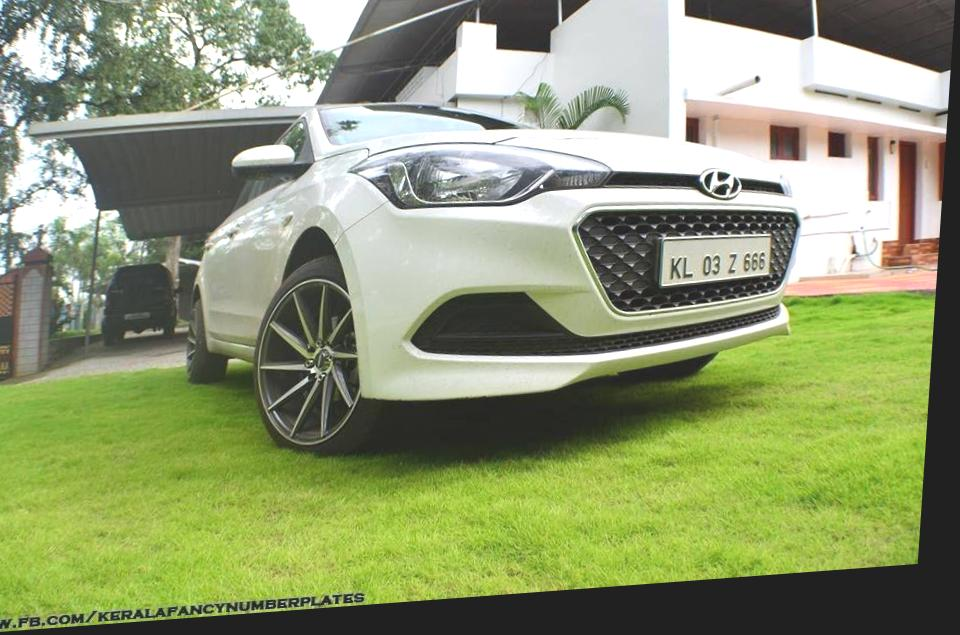License_Plate: (656, 220, 780, 298)
